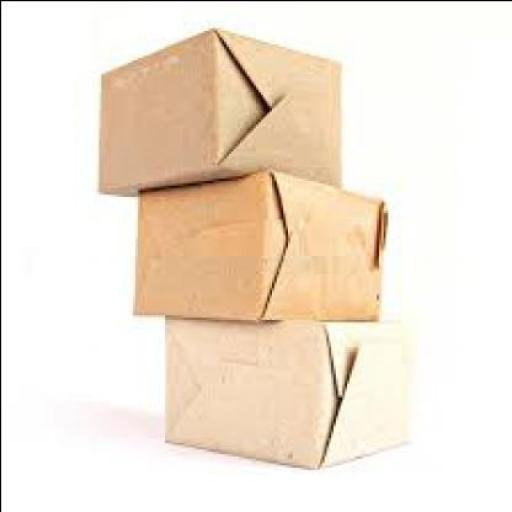cardboard: (93, 22, 337, 196), (132, 166, 385, 324), (161, 311, 405, 464)
